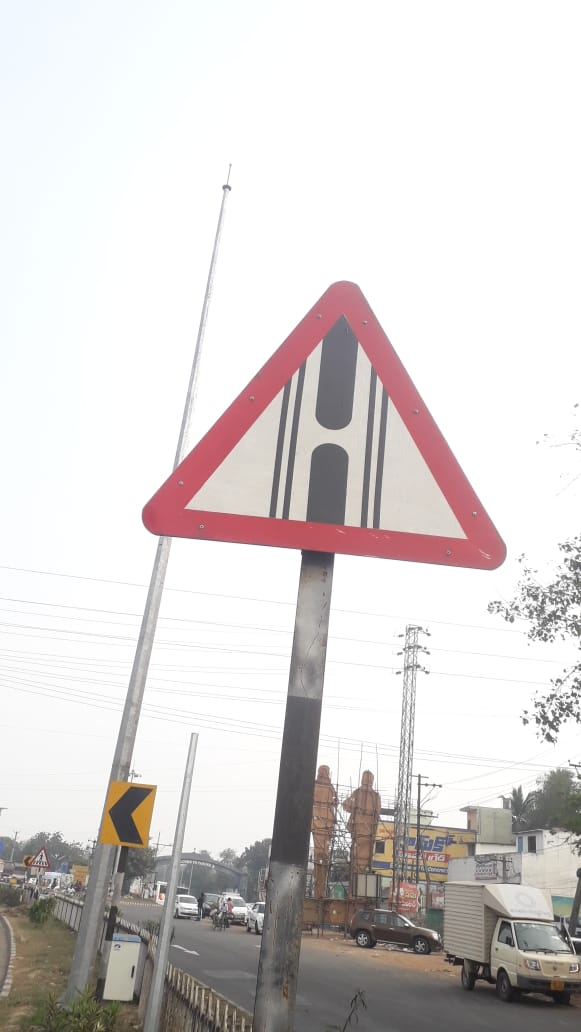highway go straight: (147, 235, 511, 595)
